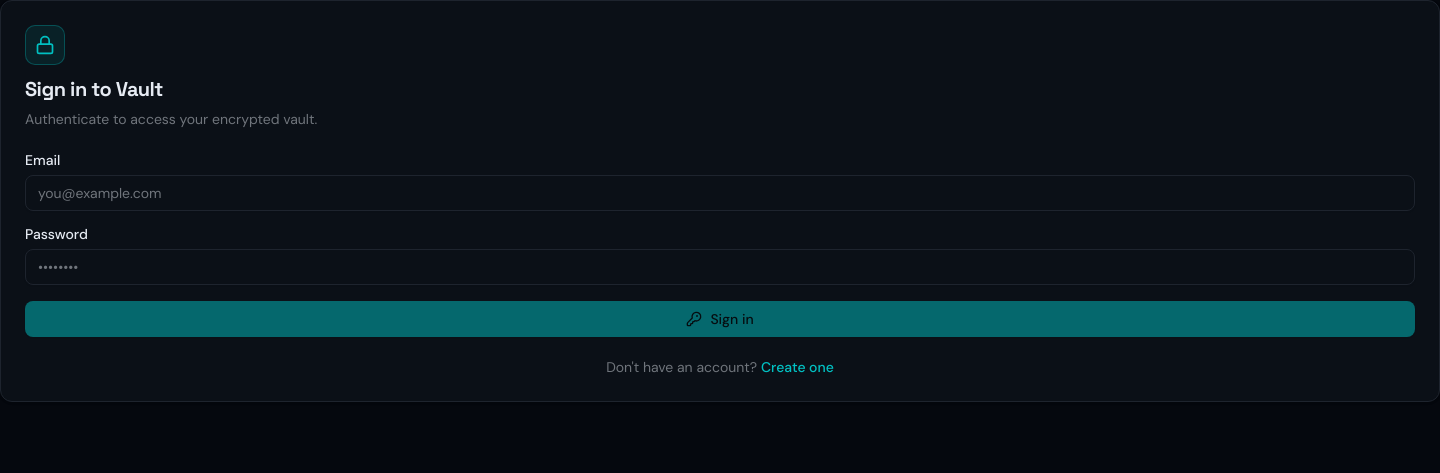
Scenario: LoginPage › shows an error when sign-in fails
Type "alice@example.com" into the field labelled "Email" at x=720, y=193, box [25,175,1415,211]
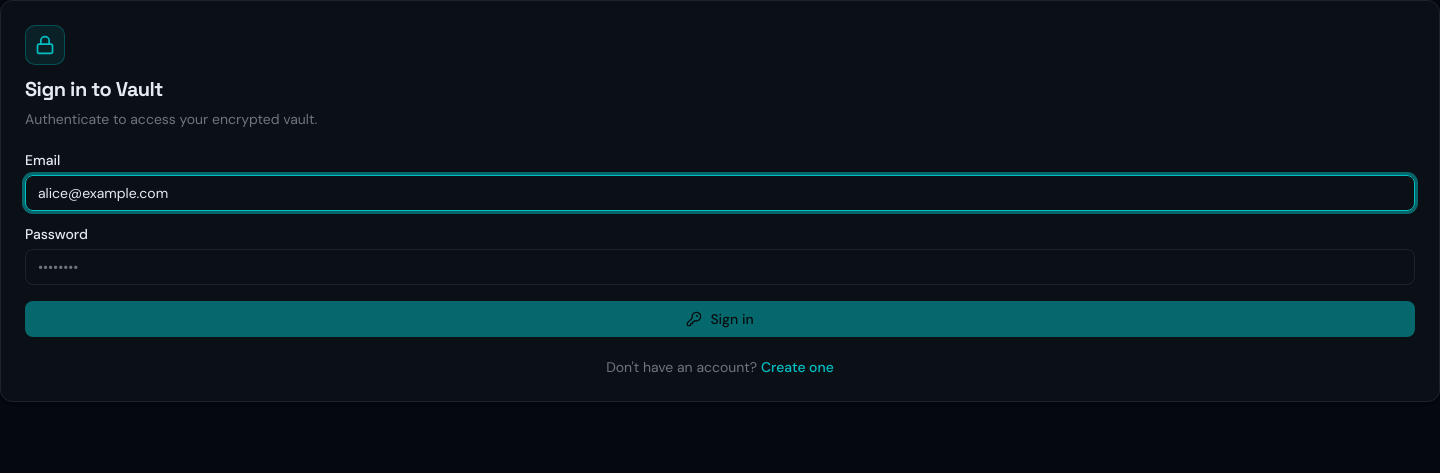
Type "wrong" into the password field labelled "Password" at x=720, y=267, box [25,249,1415,285]
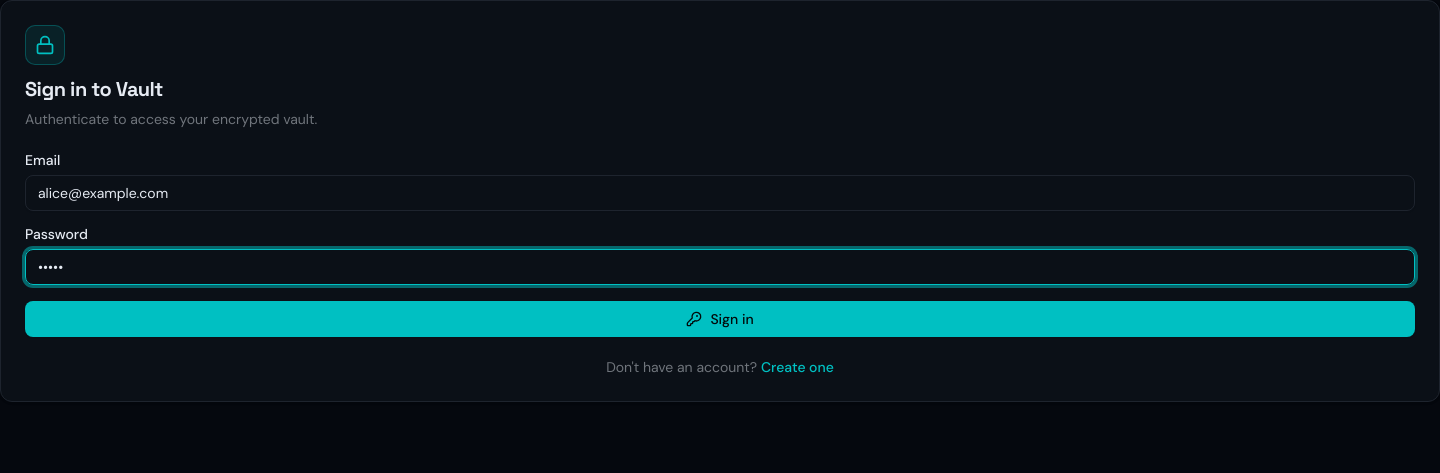
Click the button with test id "login.submit_button" at x=720, y=319, box [25,301,1415,337]
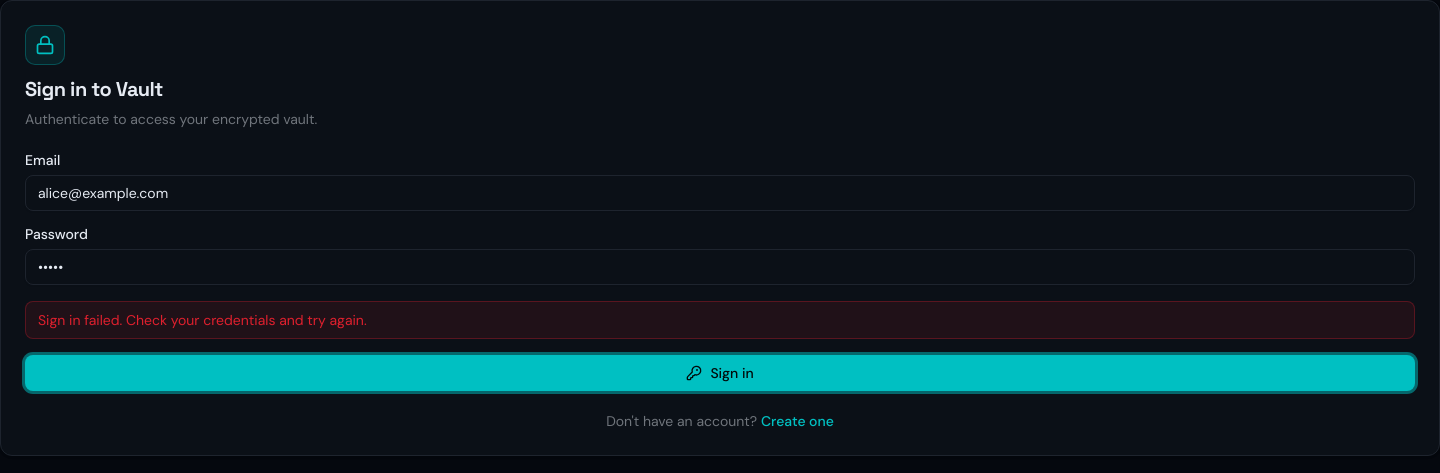
Check: the message shows "Sign in failed", box [38,311,367,329]
